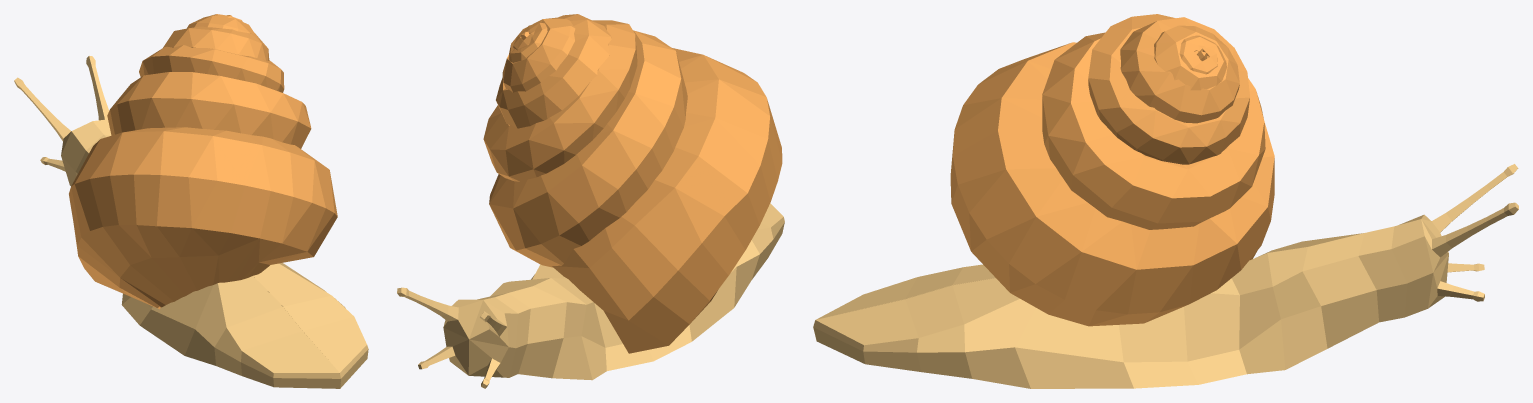
File: snail a.fbx
3 renders of one model, left to right at view 1: azimuth 30°, elevation 25°; view 2: azimuth 150°, elevation 25°; view 3: azimuth 270°, elevation 25°, orthographic. The views are drawn at different scales.
Parts seen in each view (by area): view 1: shell, snail body; view 2: shell, snail body; view 3: shell, snail body.
Part boxes in pixels (box(x1,y1,x2,y2)): shell: box(69, 14, 337, 309); snail body: box(14, 55, 368, 388); shell: box(483, 14, 782, 353); snail body: box(397, 203, 784, 388); shell: box(950, 14, 1274, 326); snail body: box(813, 164, 1518, 388).
Bounding box in the file's own units: 209 × 247 × 457.
